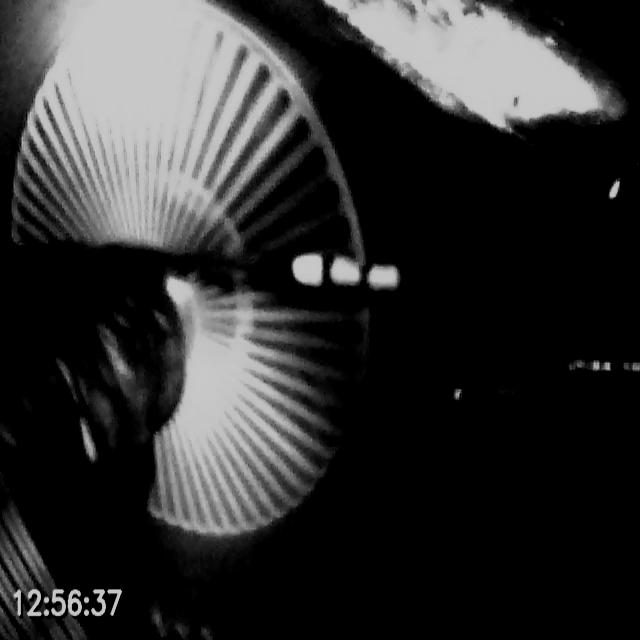white-dots: (292, 251, 400, 292)
